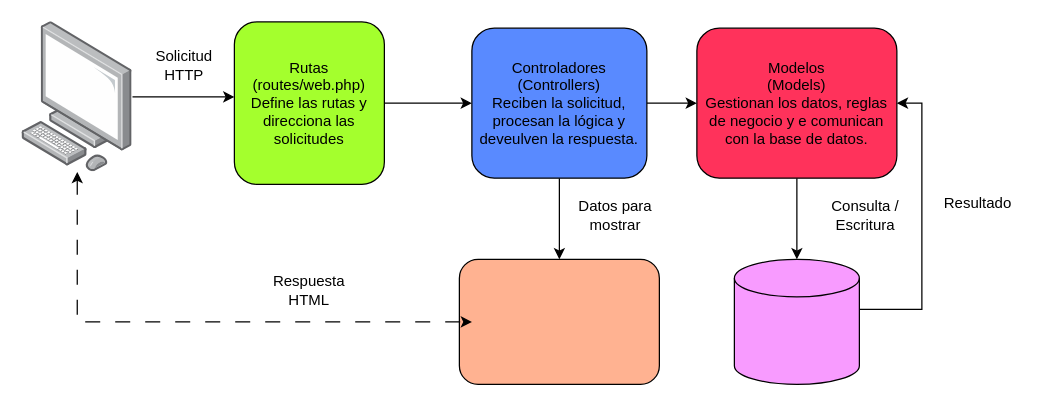
Some shapes in this 1043 by 406 pixel diagram are drawn without their labels. Each missing label, with the centre of its shape:
Base de Datos (MySQL): point (796, 321)
Vistas(Views)Presentan la información al usuario (HTML, CSS,JavaScript).: point (558, 321)
